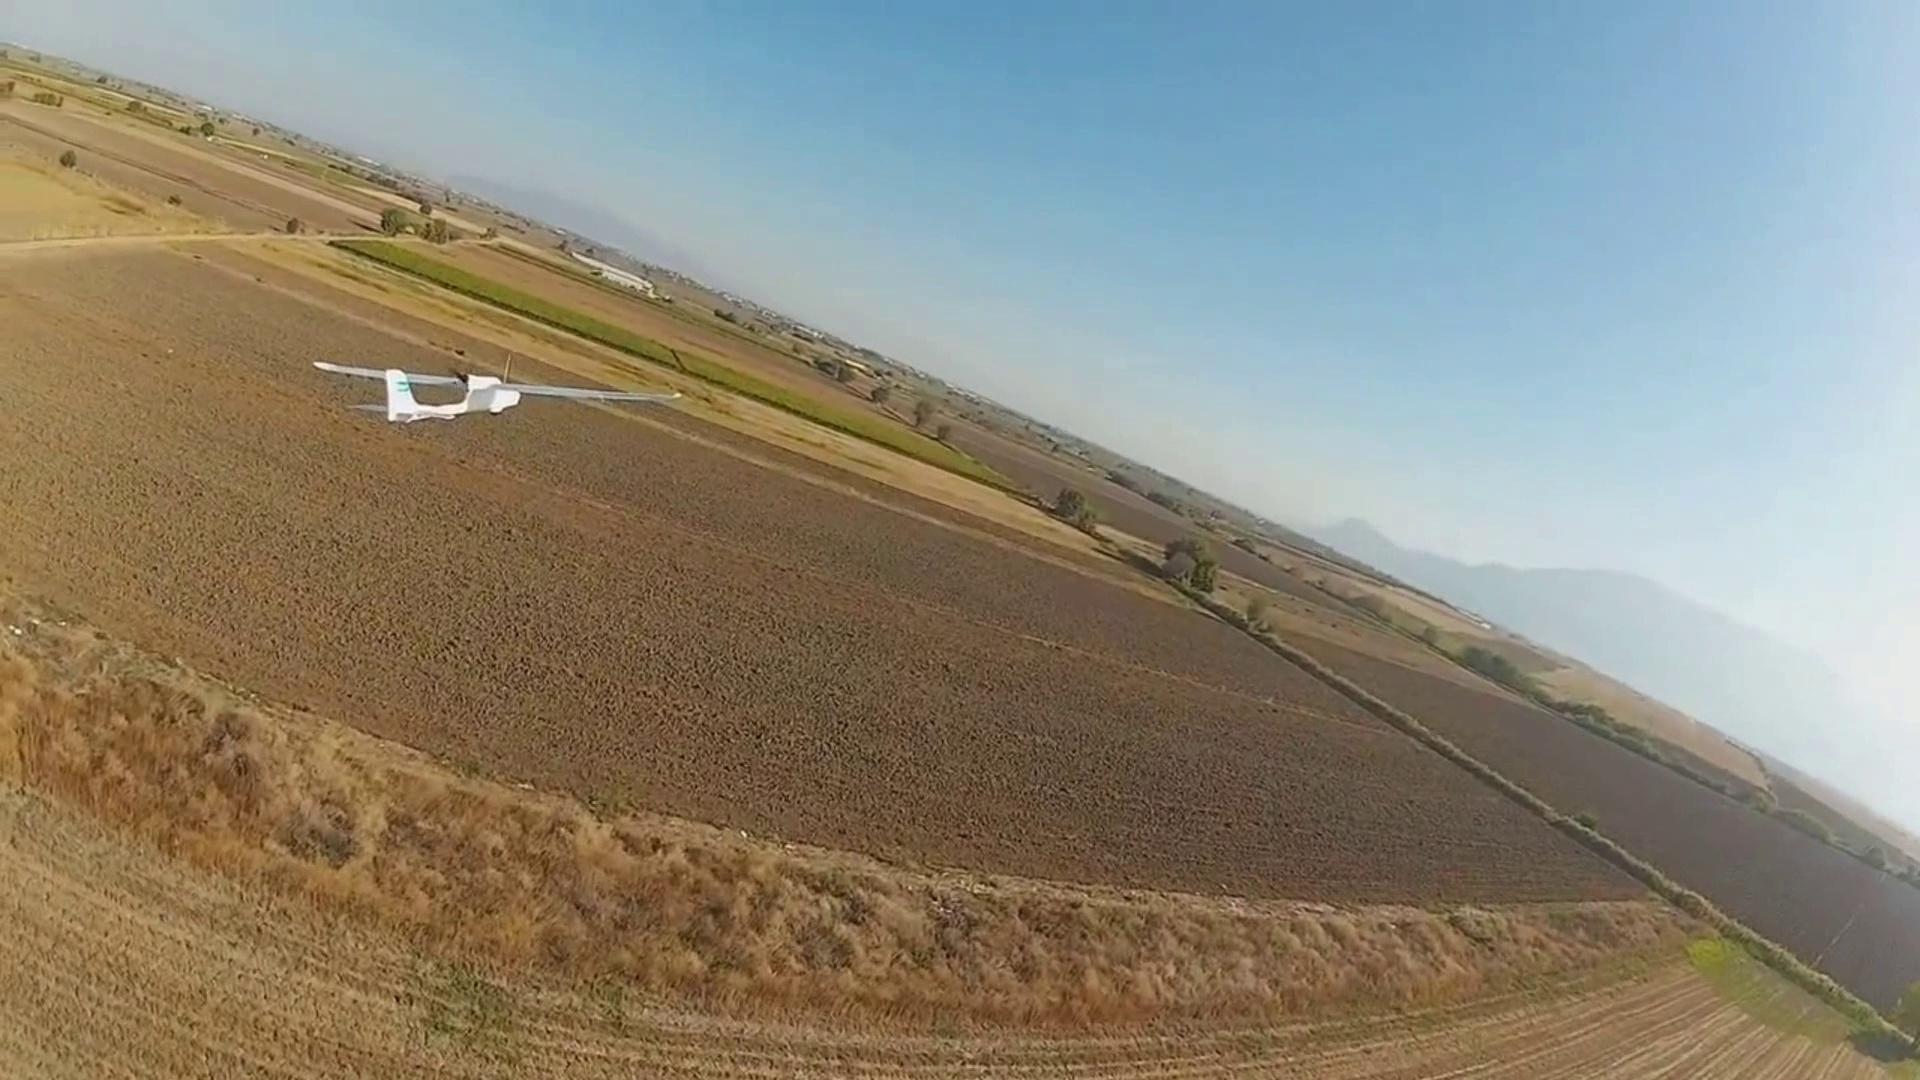airplane: (311, 363, 524, 425)
